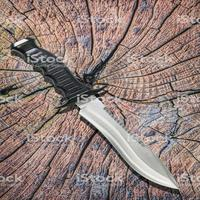knife: (7, 33, 183, 195)
